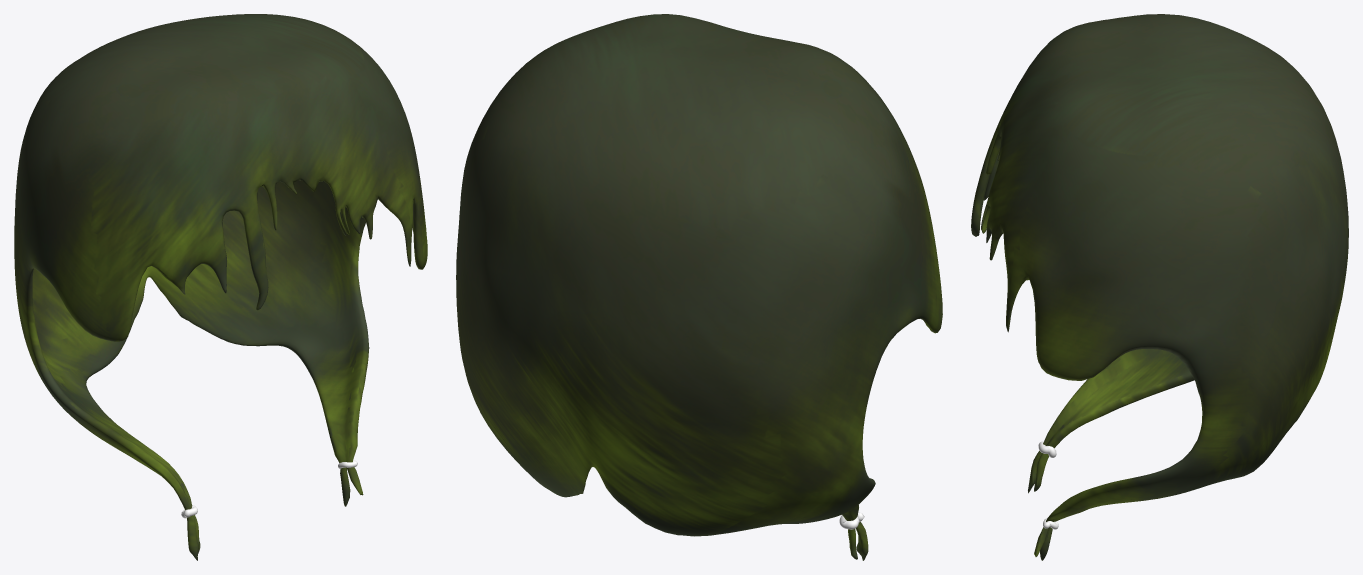
The model's file is Braid_Frosted_Green.glb.
The picture shows the model from 3 angles, left to right: view 1: azimuth 30°, elevation 25°; view 2: azimuth 150°, elevation 25°; view 3: azimuth 270°, elevation 25°; orthographic projection. The views are drawn at different scales.
Parts seen in each view (by area): view 1: Braid_Frosted_Green; view 2: Braid_Frosted_Green; view 3: Braid_Frosted_Green.
Part boxes in pixels (left/top/right/bottom): Braid_Frosted_Green: left=14, top=14, right=427, bottom=560; Braid_Frosted_Green: left=456, top=14, right=942, bottom=560; Braid_Frosted_Green: left=971, top=14, right=1348, bottom=560.
Size of the model in its own units: 0.936 by 1.11 by 0.791.
2 materials, 1 textured.
